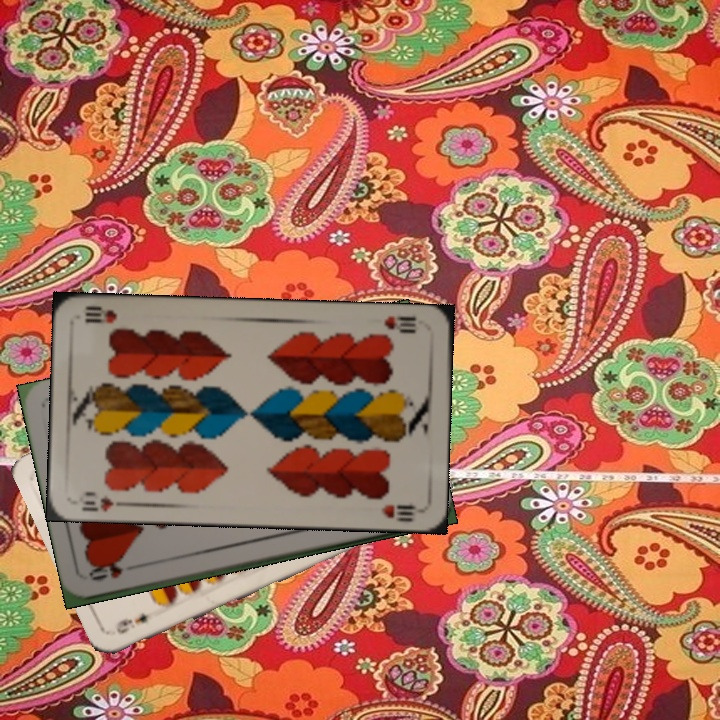E9: (112, 609, 151, 637)
H10: (77, 487, 131, 514), (380, 311, 419, 336)
HO: (85, 561, 126, 583)
